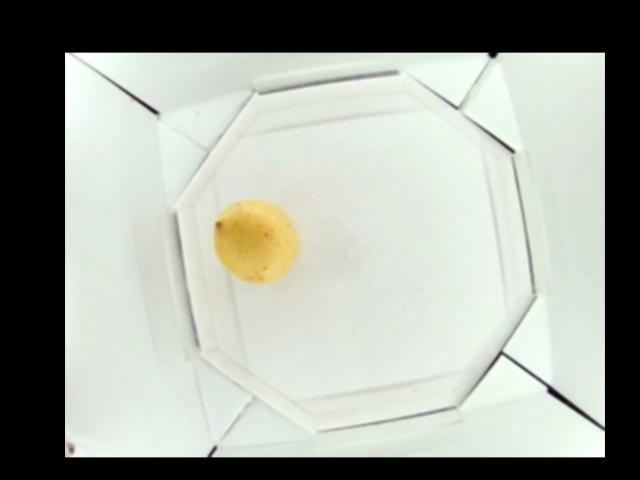Potato: (213, 199, 297, 284)
